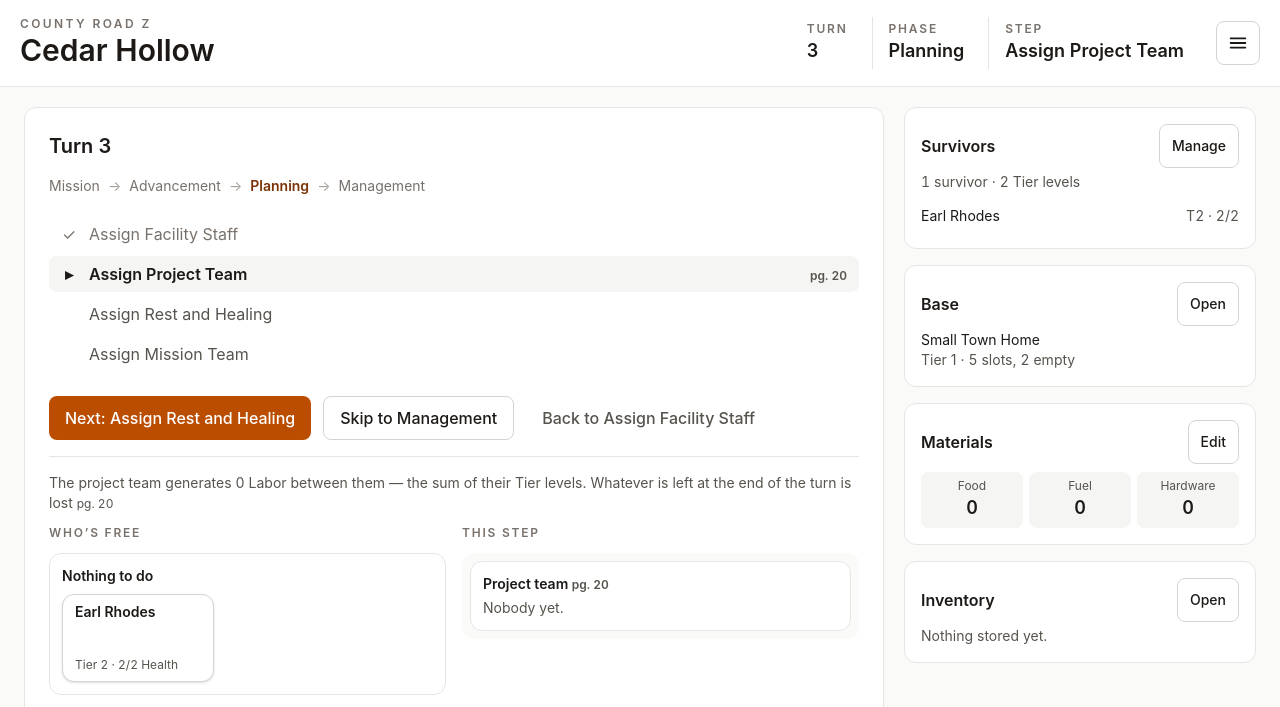
it: what a survivor carries, on their sheet (Z5-2) › shows their slots in use and their items
Click the button "Manage".
click(1199, 146)  # box top-left (1159, 124), bottom-right (1239, 168)
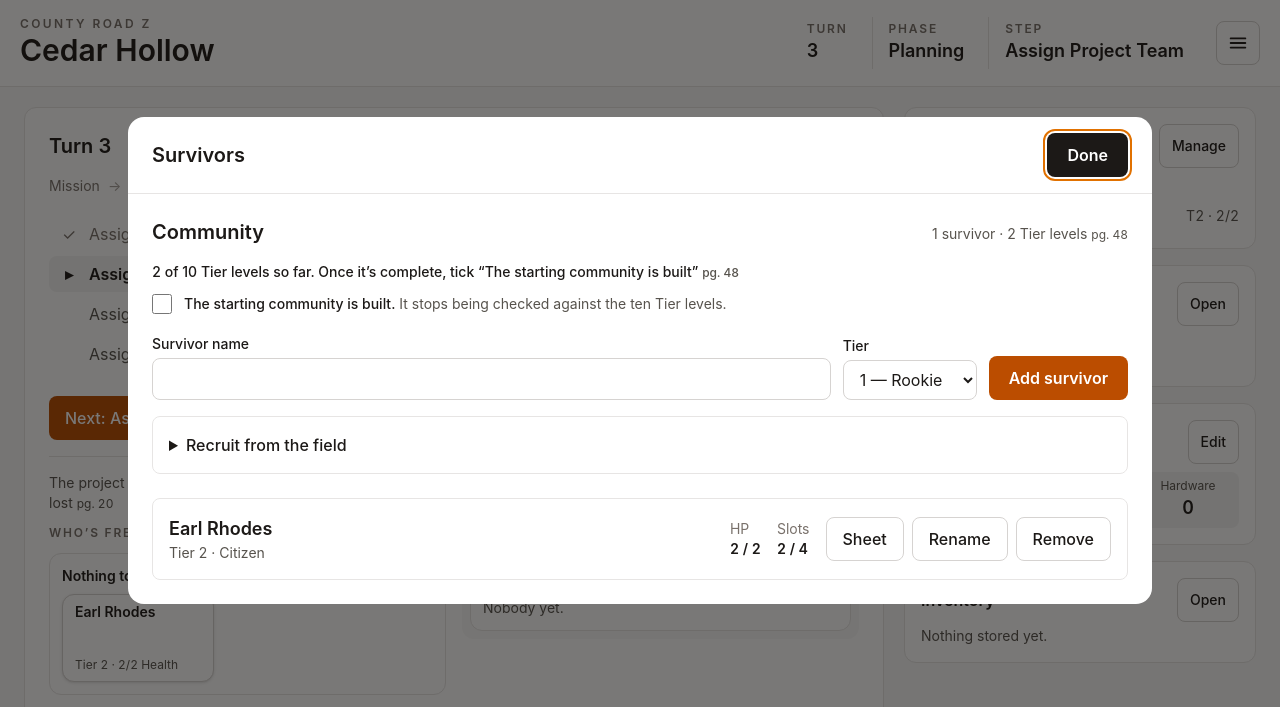
Click the button "Sheet".
click(865, 538)  # box top-left (826, 516), bottom-right (904, 560)
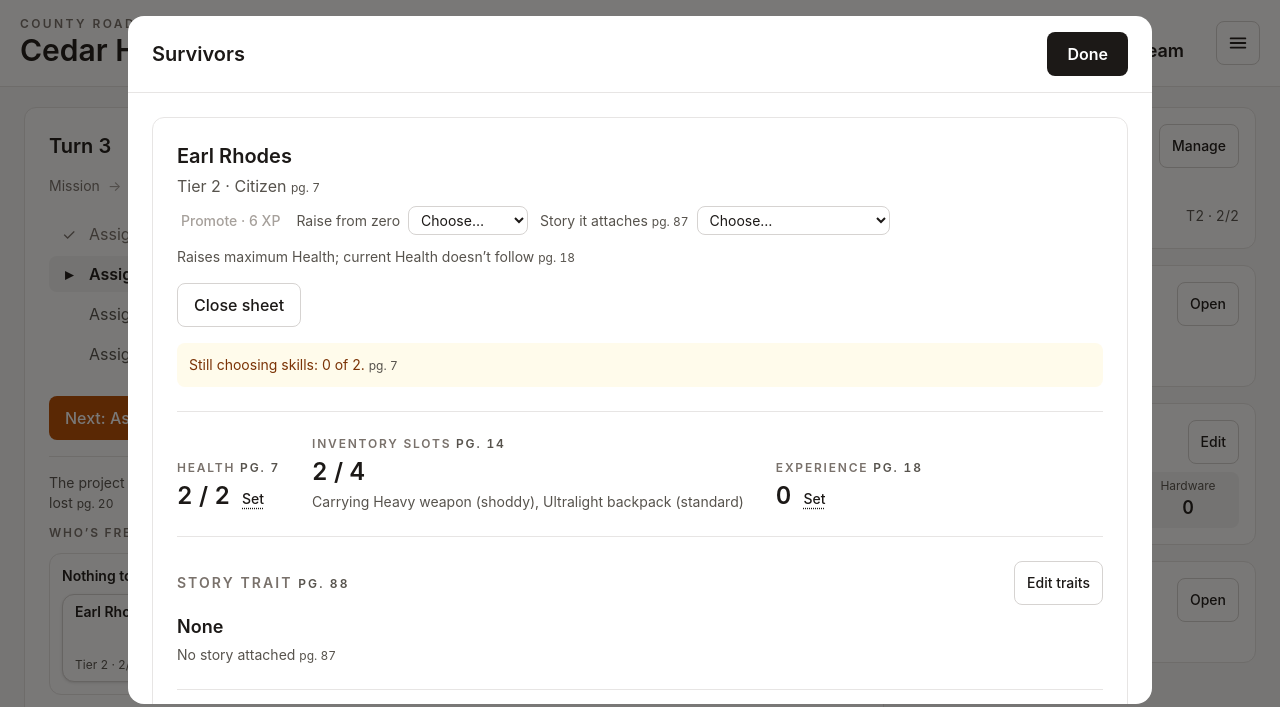
Result: the text "2 / 4" is shown at top-left (312, 457), bottom-right (365, 486)
Result: the text "Carrying Heavy weapon (shoddy), Ultralight backpack (standard)" is shown at top-left (312, 492), bottom-right (744, 512)
